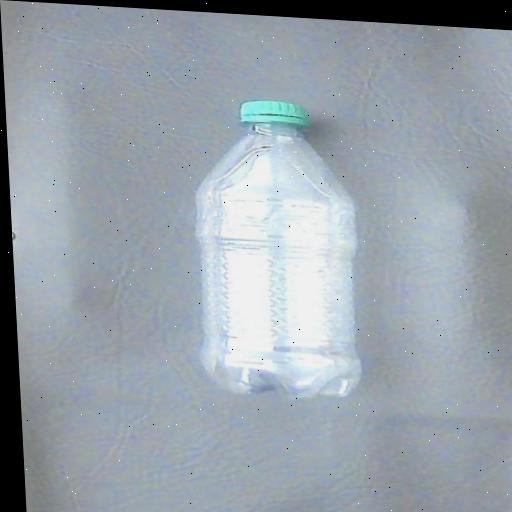ba: (162, 75, 396, 430)
